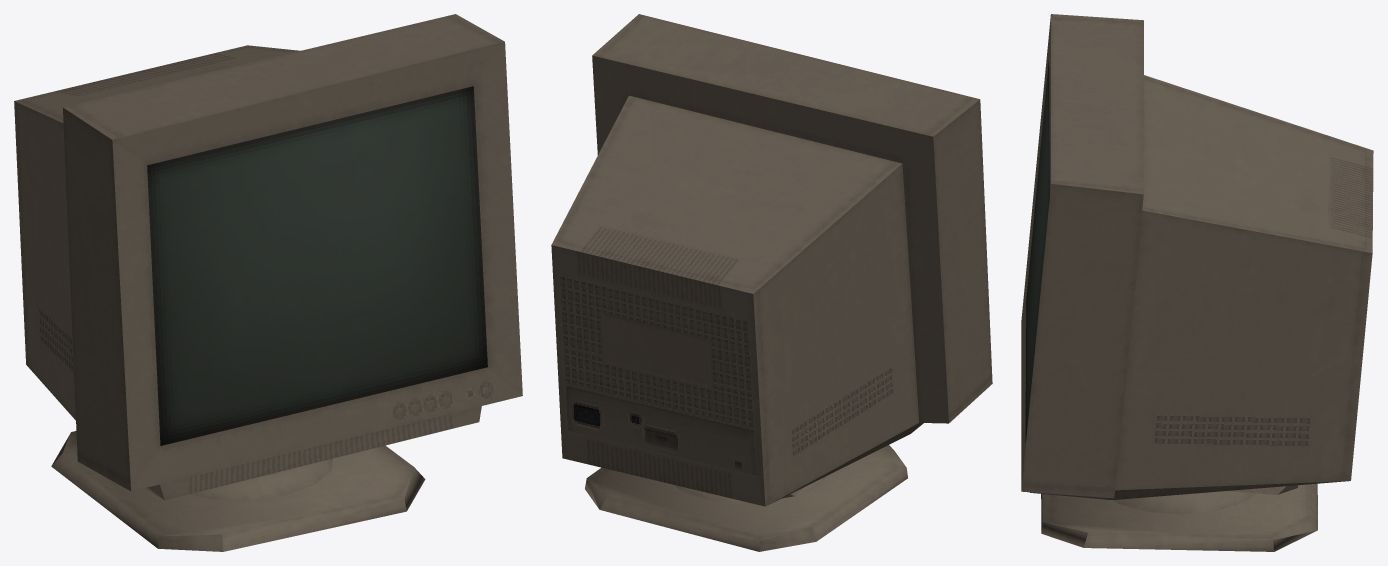
The model's file is pc_monitor_mp_1.glb.
3 views of the same model, side by side, from view 1: azimuth 30°, elevation 25°; view 2: azimuth 150°, elevation 25°; view 3: azimuth 270°, elevation 25° (orthographic). The views are drawn at different scales.
Parts seen in each view (by area): view 1: pc_monitor_mp_1_screen, pc_monitor_mp_1; view 2: pc_monitor_mp_1_screen, pc_monitor_mp_1; view 3: pc_monitor_mp_1_screen, pc_monitor_mp_1.
Part boxes in pixels (<box>): pc_monitor_mp_1_screen: <box>14,14,522,500</box>; pc_monitor_mp_1: <box>51,431,425,551</box>; pc_monitor_mp_1_screen: <box>551,14,992,506</box>; pc_monitor_mp_1: <box>585,445,907,551</box>; pc_monitor_mp_1_screen: <box>1021,14,1373,499</box>; pc_monitor_mp_1: <box>1041,483,1317,551</box>.
Size of the model in its own units: 0.4745 by 0.5056 by 0.4081.
Materials: 2 (2 with a texture image).
